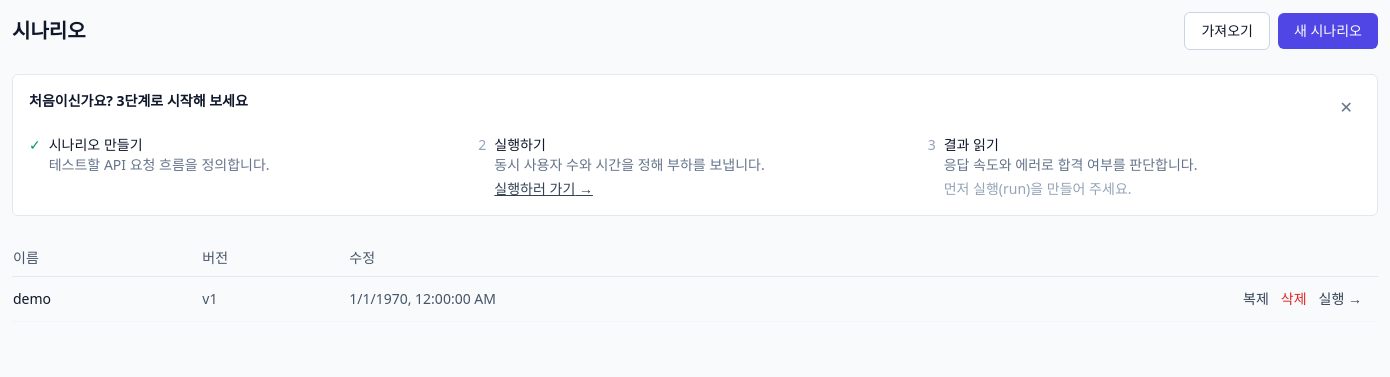
Test: ScenarioListPage clone › clears stale error banner when cloning again after a failure
Check: the link "demo" is shown, box left=13, top=289, right=51, bottom=308
Note: first click → error banner appears
Click the button "복제": (1256, 299) left=1243, top=289, right=1269, bottom=309
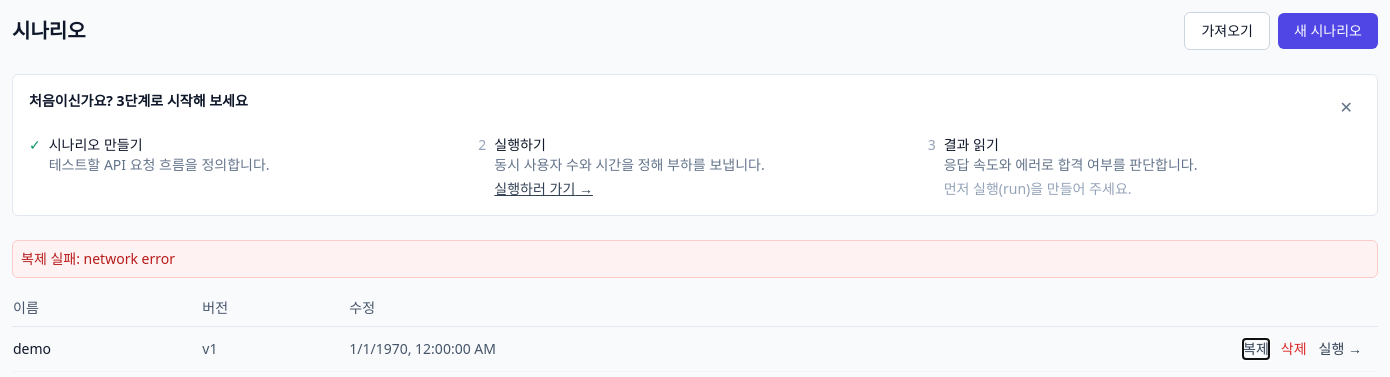
Check: the message "복제 실패: network error" is shown, box left=12, top=240, right=1378, bottom=278
Note: second click → error banner should be gone immediately (reset before mutate)
Click the button "복제": (1256, 349) left=1243, top=339, right=1269, bottom=359
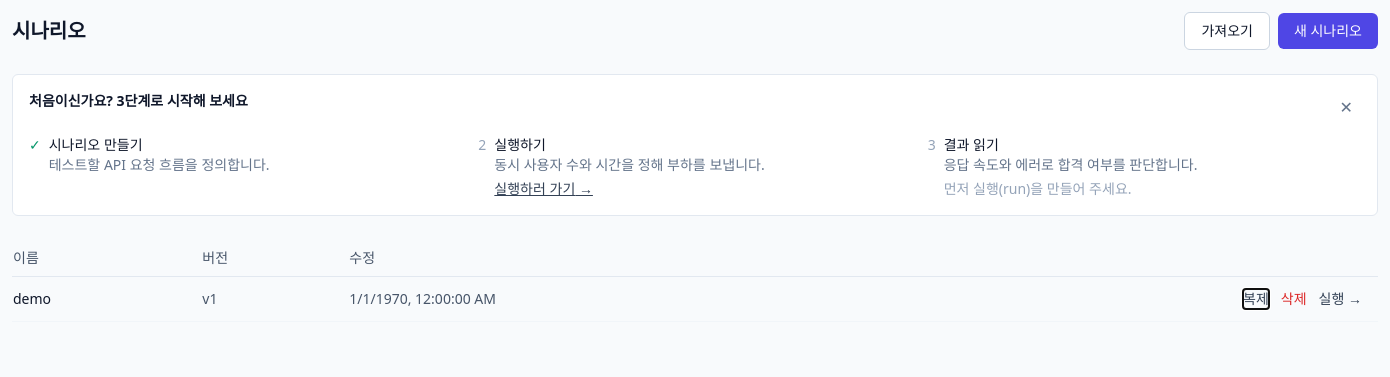
Check: the message "복제 실패: network error" is gone
